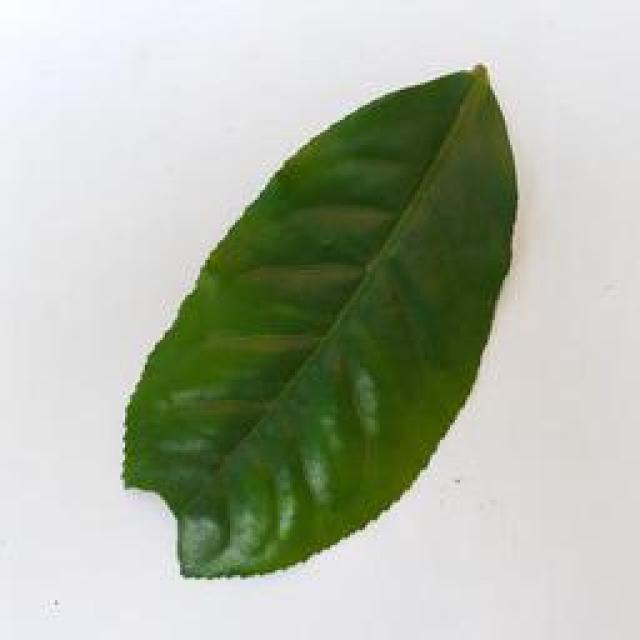Healthy: (118, 62, 518, 586)
